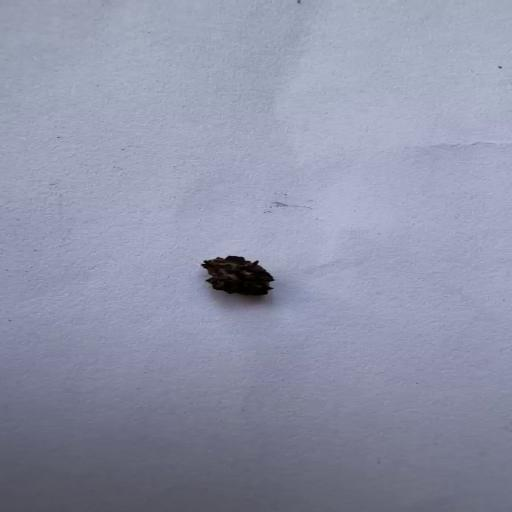papaya_seed: (197, 250, 277, 298)
